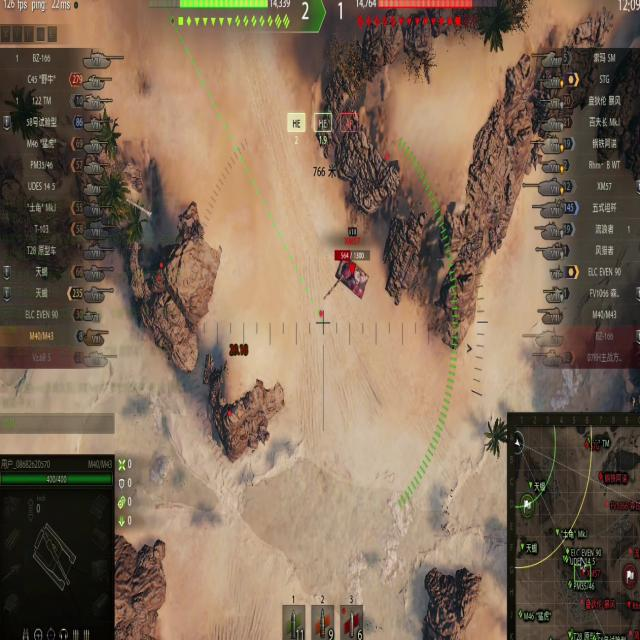tank: (331, 248, 376, 306)
